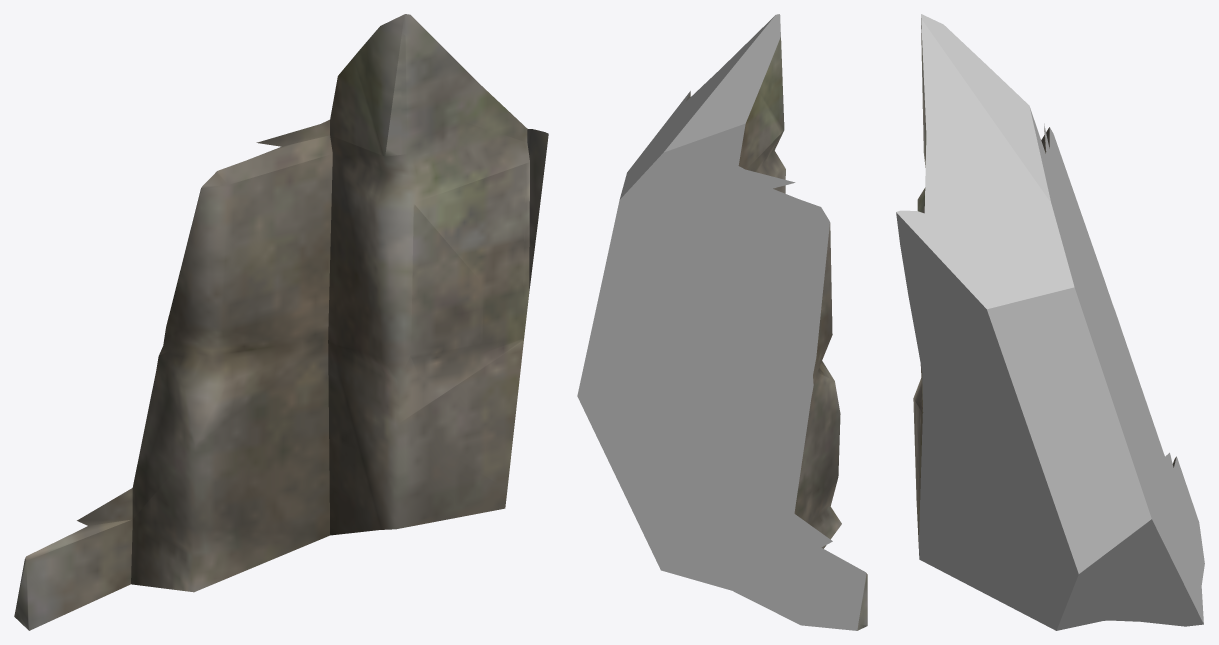
The model's file is ColumnDamage08_29.fbx.
3 views of the same model, side by side, from view 1: azimuth 30°, elevation 25°; view 2: azimuth 150°, elevation 25°; view 3: azimuth 270°, elevation 25° (orthographic). The views are drawn at different scales.
Parts seen in each view (by area): view 1: ColumnDamage08_DM.029; view 2: ColumnDamage08_DM.029; view 3: ColumnDamage08_DM.029.
Part boxes in pixels (left/top/right/bottom): ColumnDamage08_DM.029: left=14, top=14, right=548, bottom=630; ColumnDamage08_DM.029: left=577, top=14, right=867, bottom=630; ColumnDamage08_DM.029: left=896, top=14, right=1204, bottom=630.
Size of the model in its own units: 122 by 178 by 78.71.
